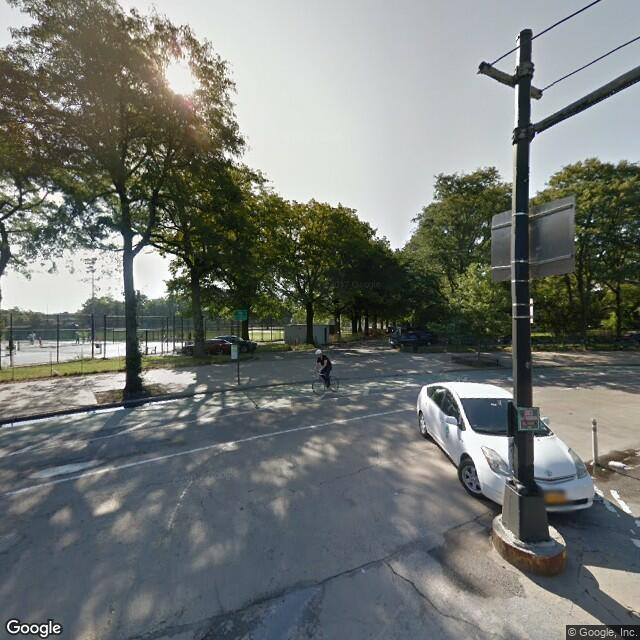litter: (608, 460, 628, 469), (360, 565, 367, 575)
